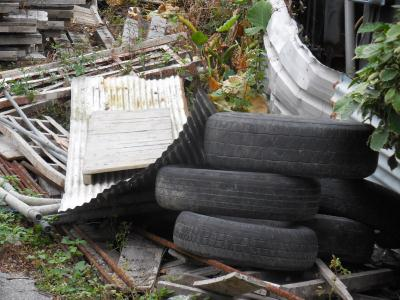tire: (200, 110, 380, 181), (150, 160, 320, 223), (167, 209, 322, 276)
